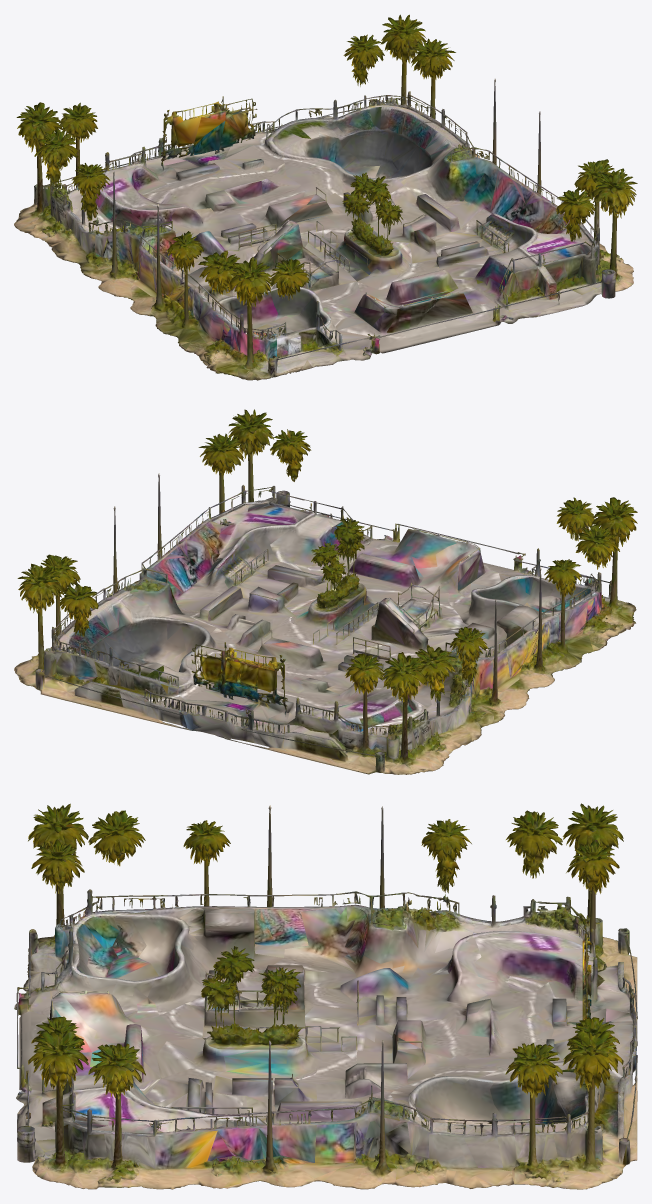
File: venice-skatepark.glb
The picture shows the model from 3 angles, top to bottom: view 1: azimuth 30°, elevation 25°; view 2: azimuth 150°, elevation 25°; view 3: azimuth 270°, elevation 25°; orthographic projection. The views are drawn at different scales.
Visible parts, largest first — view 1: Mesh_0; view 2: Mesh_0; view 3: Mesh_0.
Boxes of the visible parts, <box> form: Mesh_0: <box>14,14,637,380</box>; Mesh_0: <box>14,409,637,774</box>; Mesh_0: <box>14,803,637,1189</box>.
Bounding box in the file's own units: 1.88 × 0.5016 × 1.9.
1 material, 1 textured.
